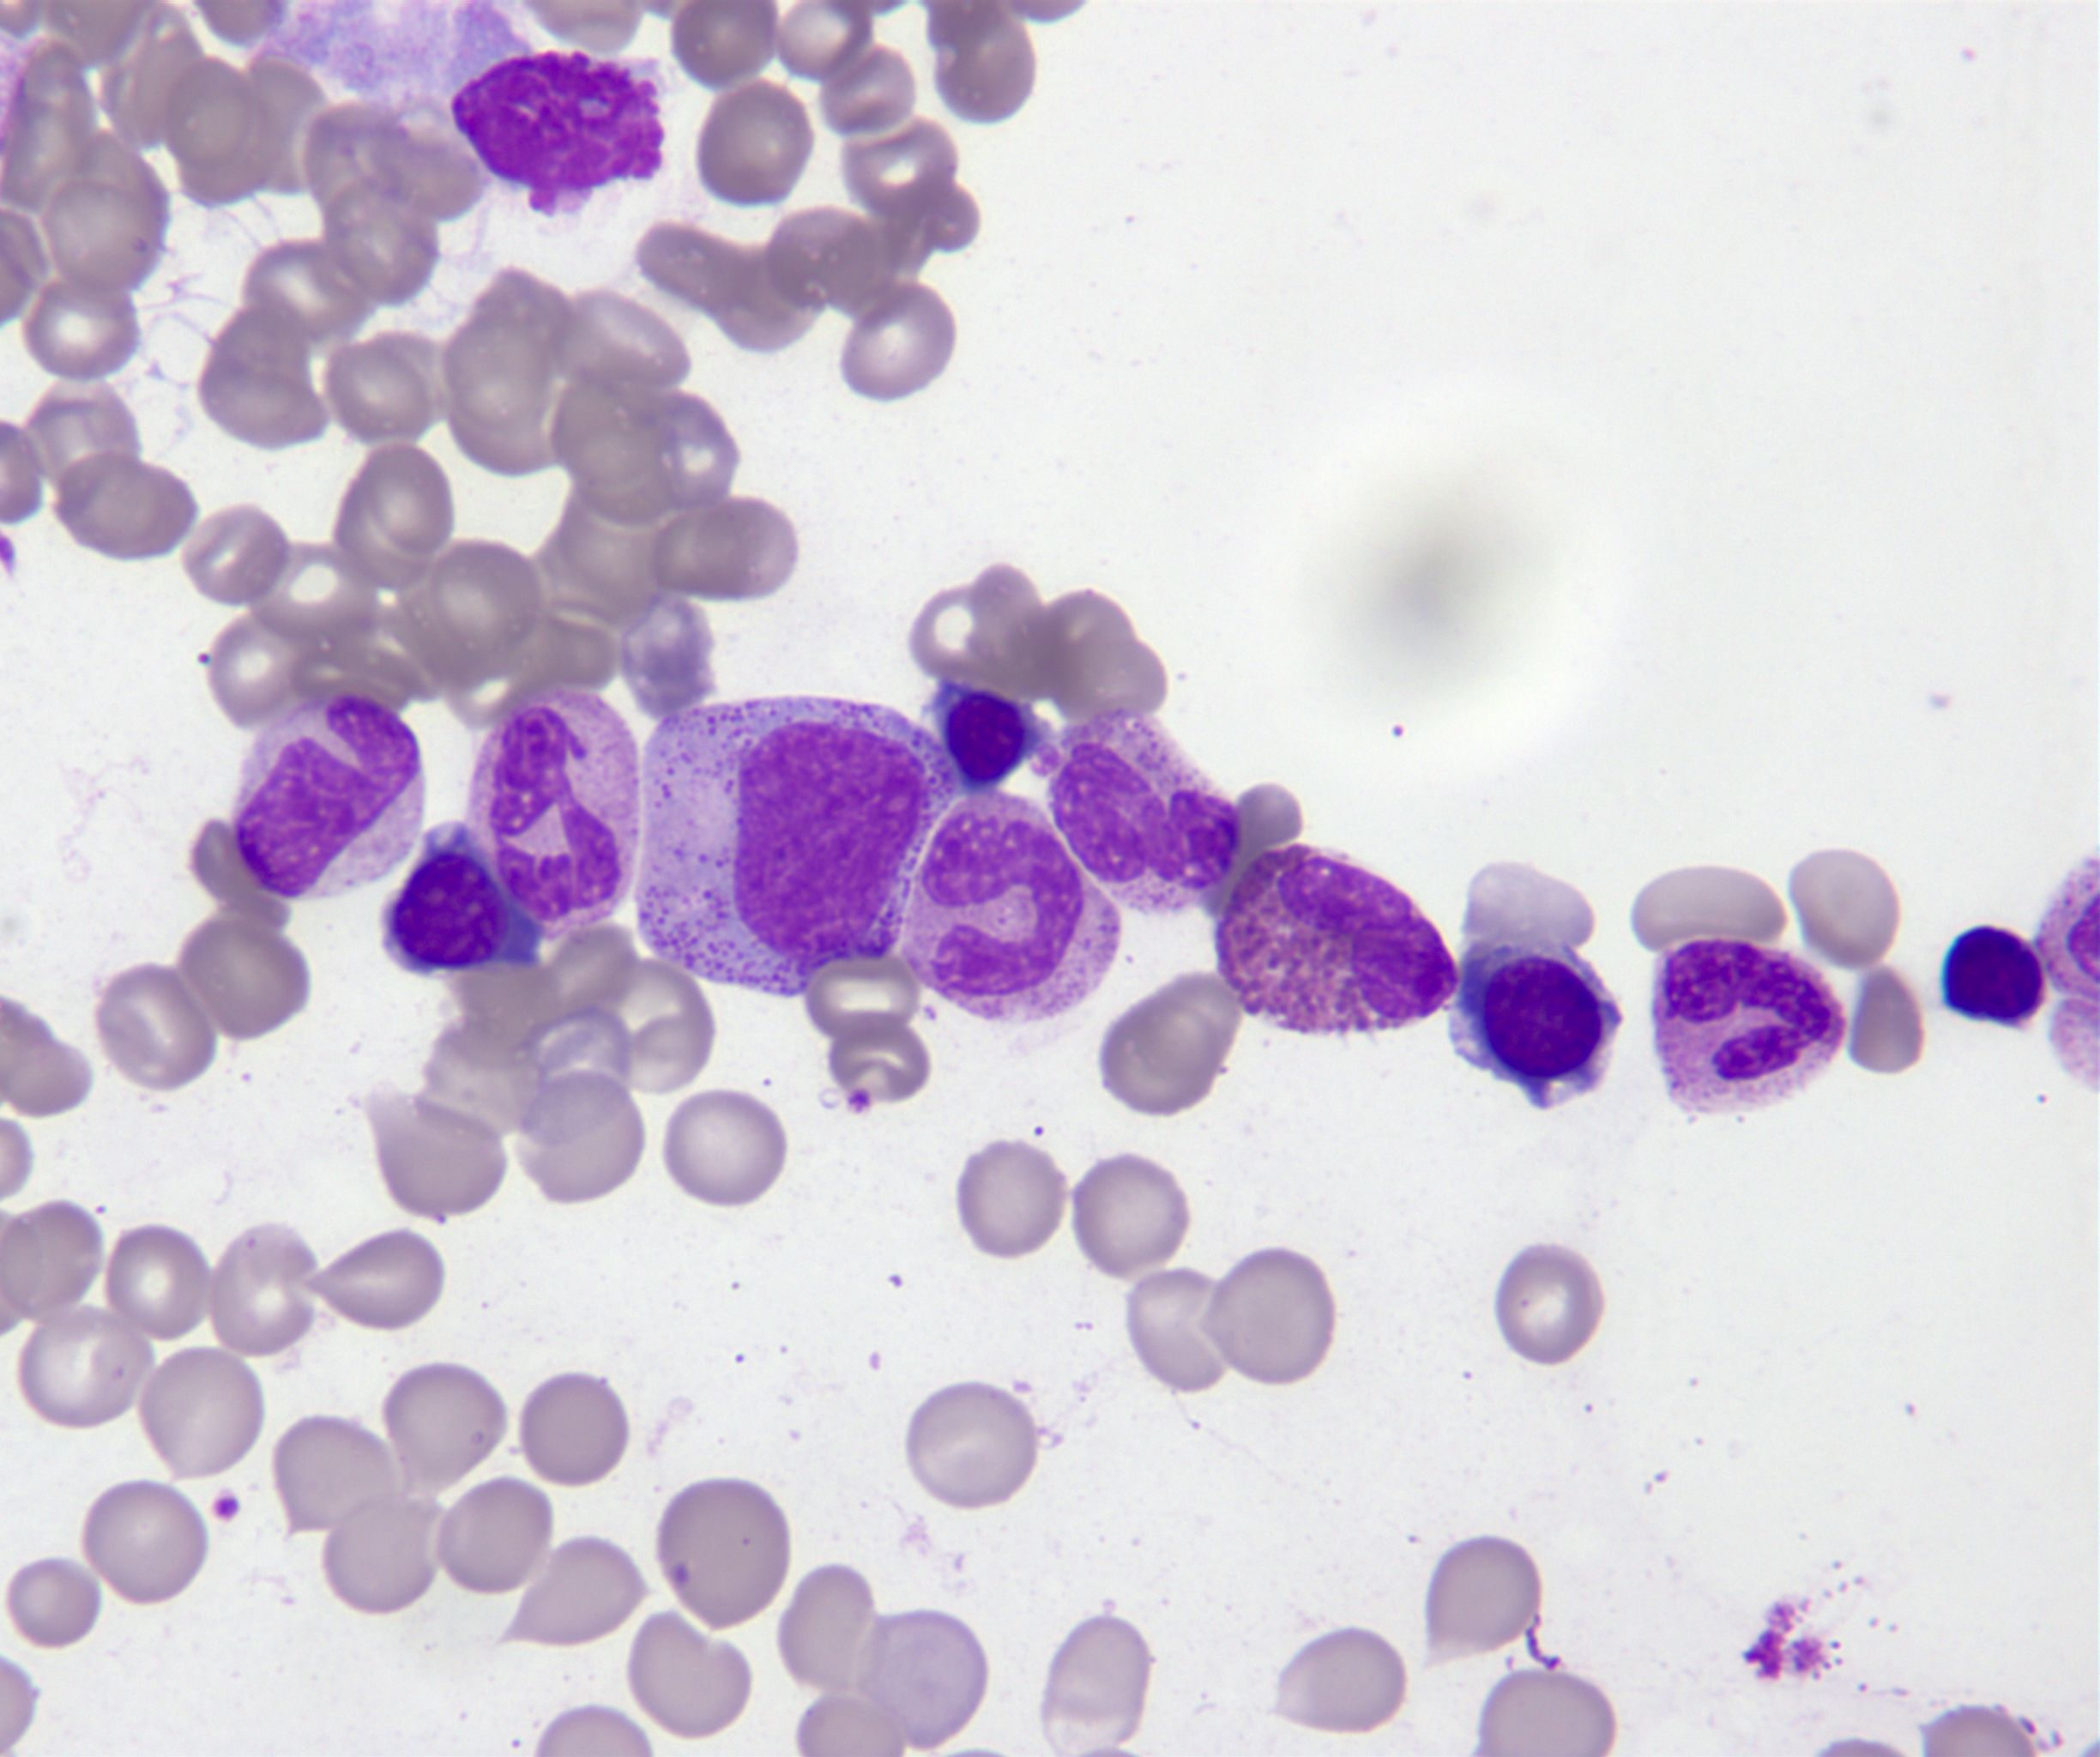23: (1453, 930, 1626, 1117), (375, 815, 548, 981), (924, 675, 1053, 794)
3: (630, 694, 963, 1002)
32: (1938, 921, 2048, 1036)
5: (897, 783, 1123, 1028), (1041, 700, 1245, 925), (228, 689, 431, 909), (1647, 930, 1852, 1118)
6: (459, 680, 645, 933)
E3: (1205, 836, 1463, 1043)
x: (438, 31, 672, 223)
